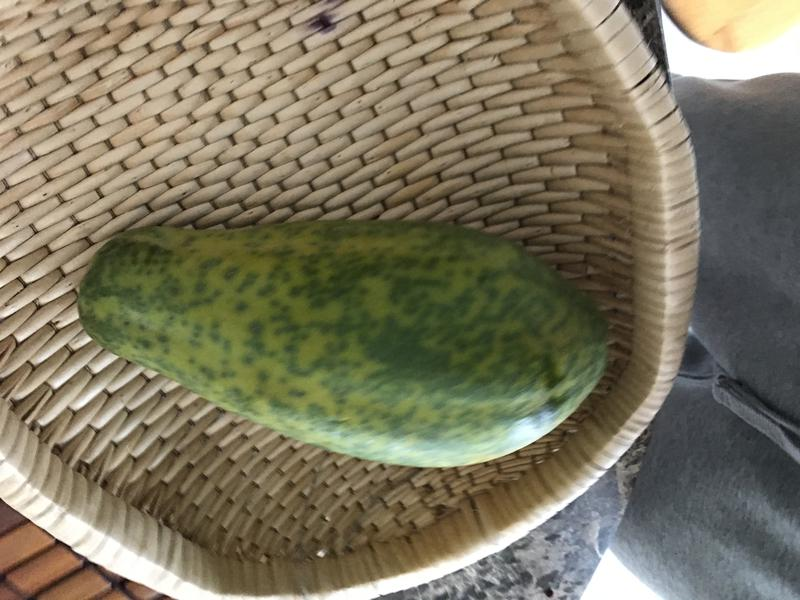papaya: (74, 211, 618, 477)
